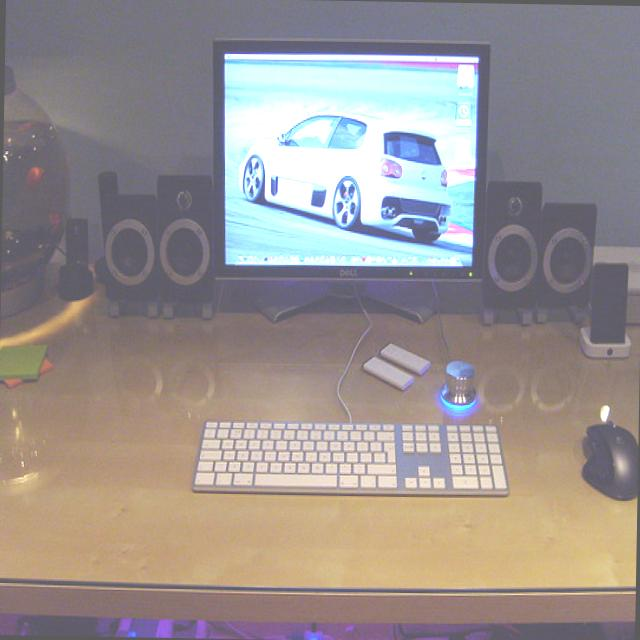Vehicle: (235, 108, 455, 243)
